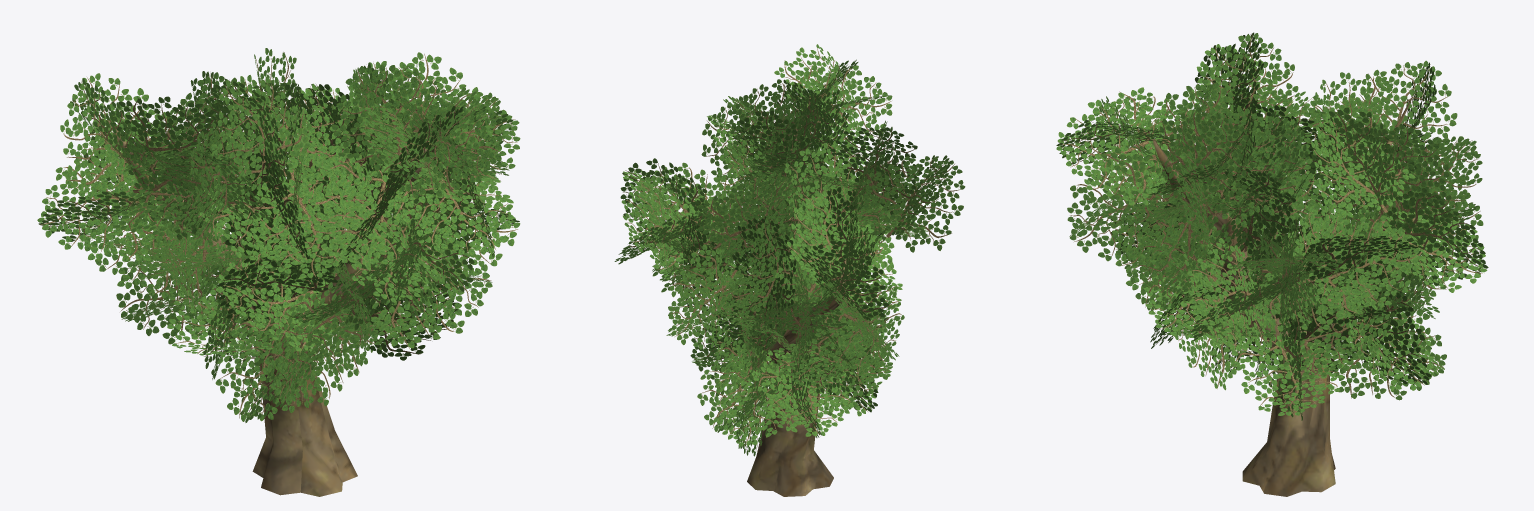
File: Arbre_Simple.obj
3 views of the same model, side by side, from view 1: azimuth 30°, elevation 25°; view 2: azimuth 150°, elevation 25°; view 3: azimuth 270°, elevation 25° (orthographic). The views are drawn at different scales.
Parts seen in each view (by area): view 1: Plane.044; view 2: Plane.044; view 3: Plane.044.
Part boxes in pixels (x1,y1,x2,y2): Plane.044: (37, 48, 520, 496); Plane.044: (614, 44, 965, 496); Plane.044: (1056, 32, 1488, 496).
Bounding box in the file's own units: 7.82 × 7.6 × 7.81.
2 materials, 2 textured.
